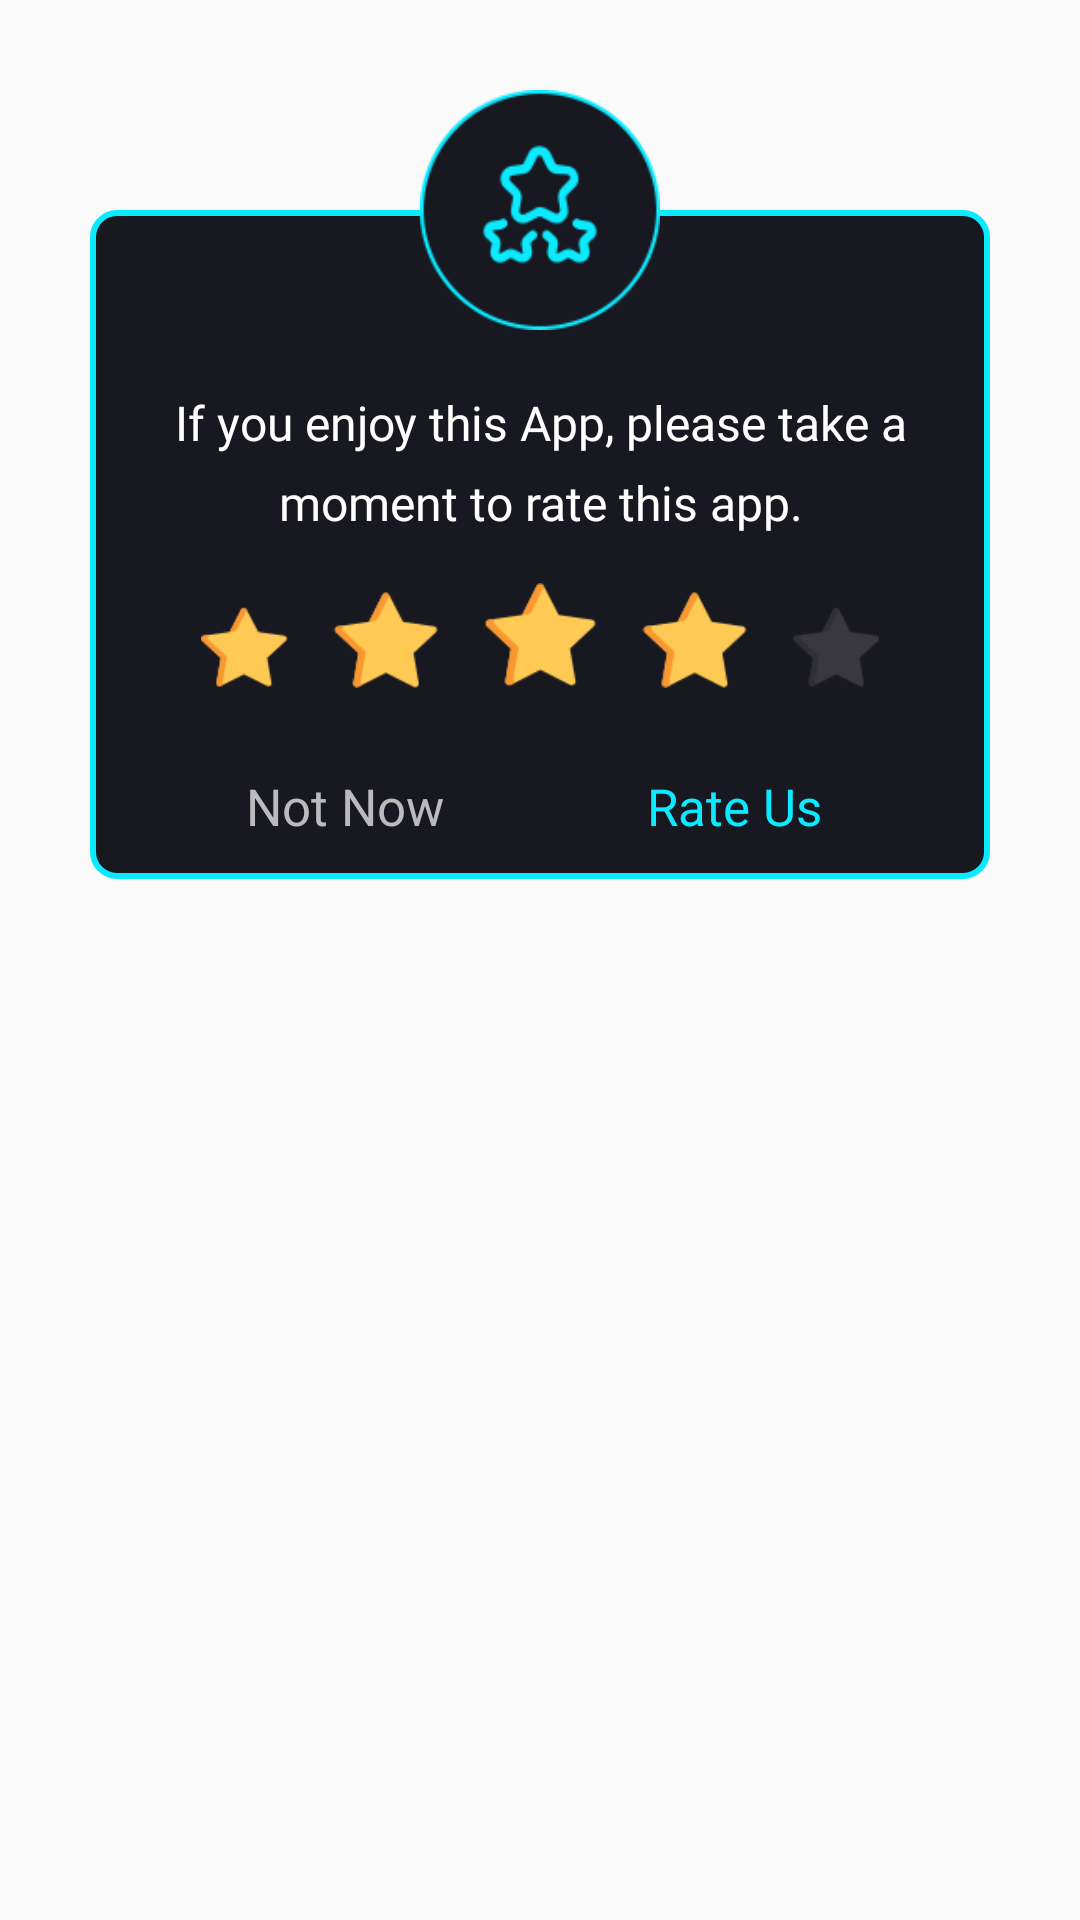

Point at icon controls on the screen. Image size 1080w x 1920h, points as point (x, y).
rate us: point (540, 210)
